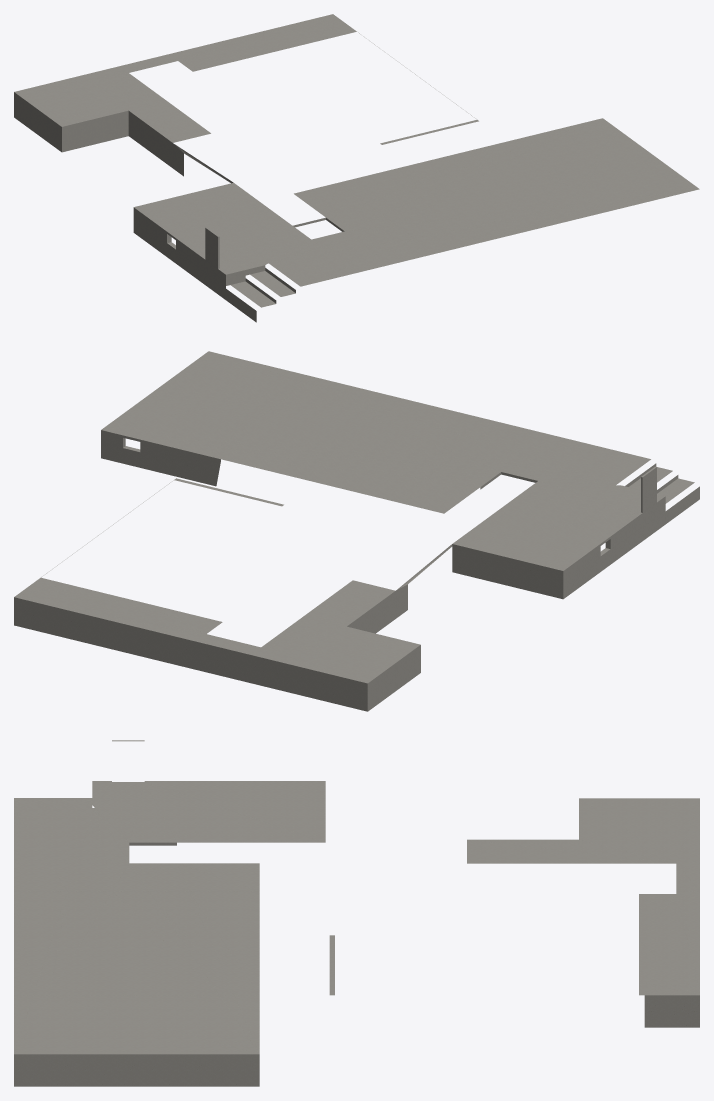
File: kd_stage_135ded_4_7_exterior.glb
3 views of the same model, one above another, from view 1: azimuth 30°, elevation 25°; view 2: azimuth 150°, elevation 25°; view 3: azimuth 270°, elevation 25° (orthographic). The views are drawn at different scales.
Visible parts, largest first — view 1: kd_stage_135ded_4_7_exterior; view 2: kd_stage_135ded_4_7_exterior; view 3: kd_stage_135ded_4_7_exterior.
Boxes of the visible parts, left/top/right/bottom form: kd_stage_135ded_4_7_exterior: left=14, top=14, right=699, bottom=322; kd_stage_135ded_4_7_exterior: left=14, top=351, right=699, bottom=711; kd_stage_135ded_4_7_exterior: left=14, top=740, right=699, bottom=1086.
Size of the model in its own units: 9.96 by 1.24 by 10.56.
1 material, 1 textured.
